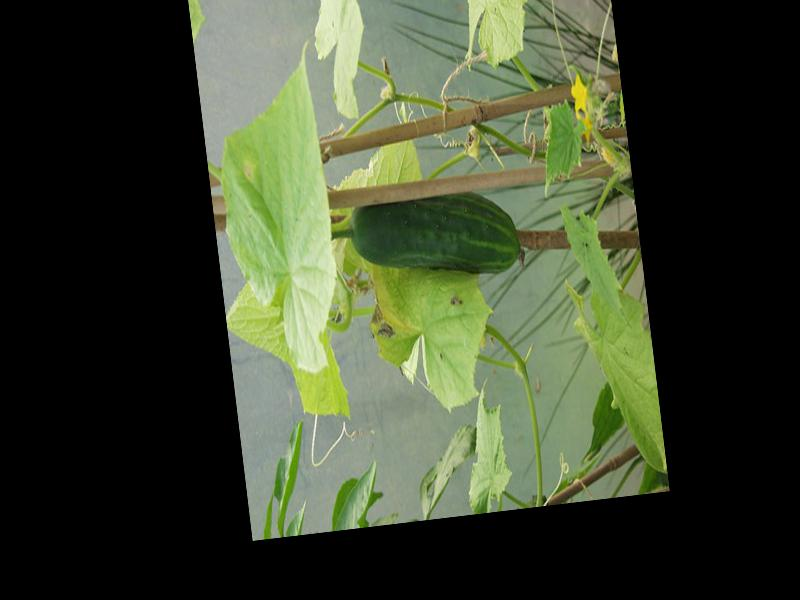Cucumber: (347, 185, 526, 291)
